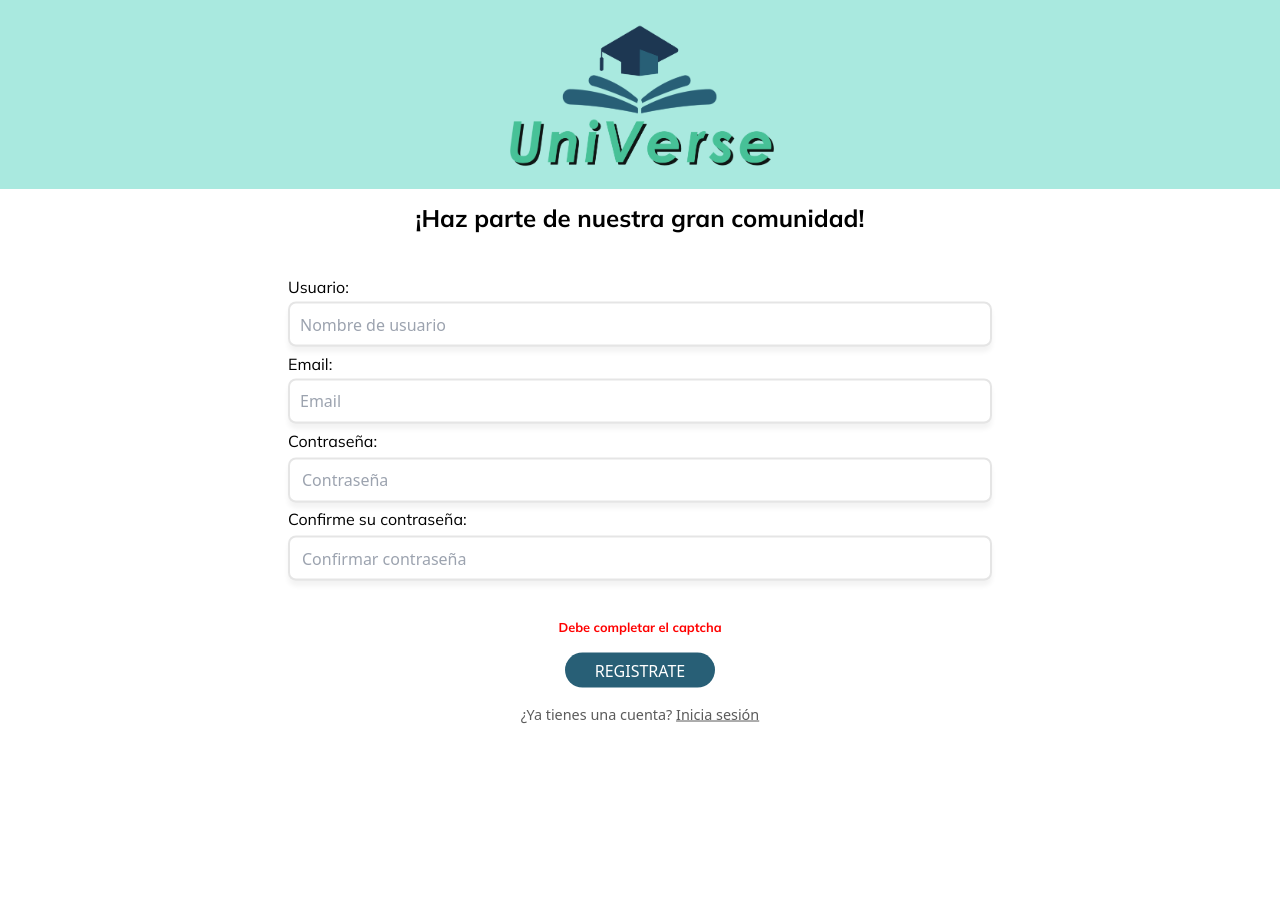
Test case: Prueba de restricciones en los inputs › Muestra error cuando el nombre de usuario está vacío
Type "correo@valido.com" into the field with placeholder "Email" at (640, 401), box [288,378,992,423]
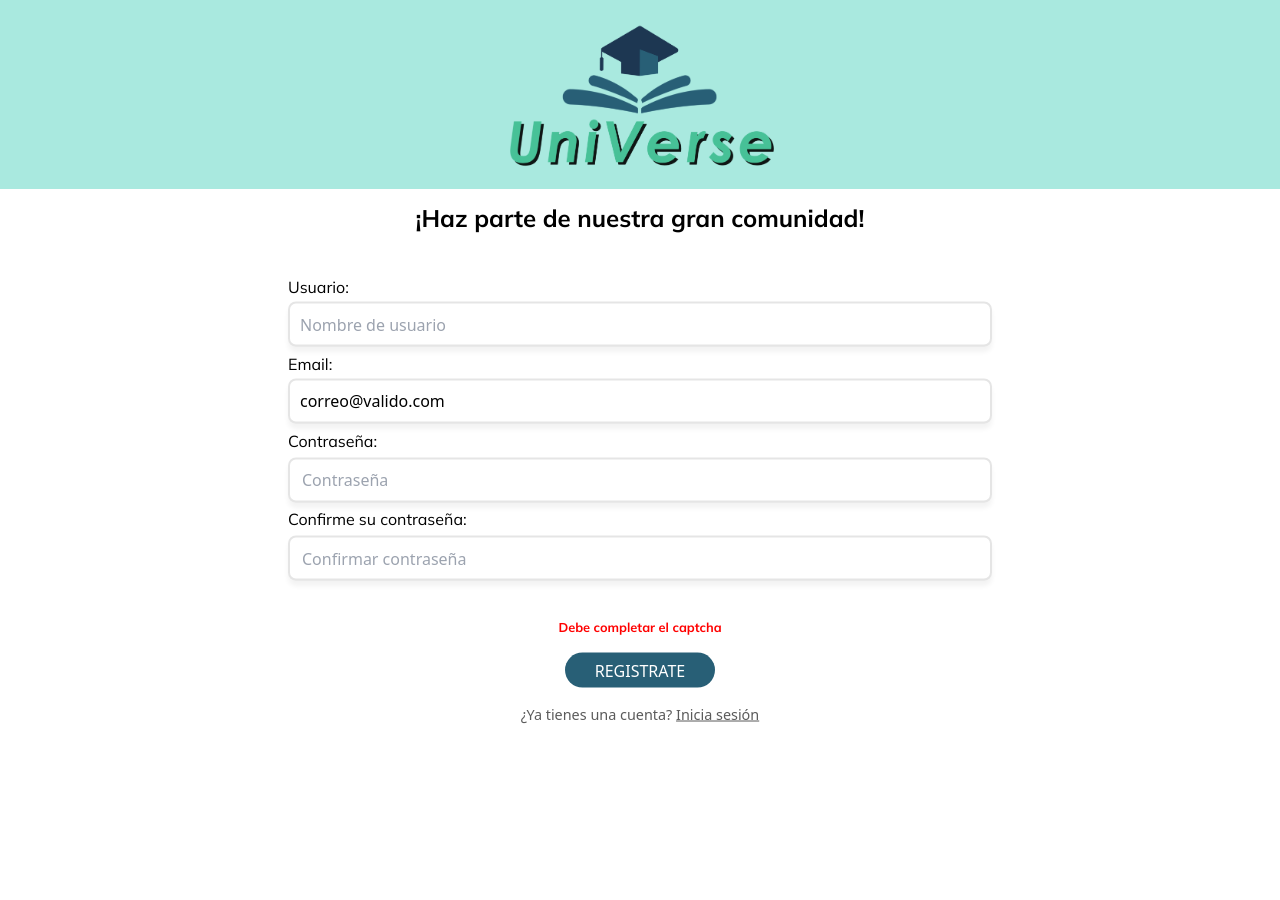
Type "ContraseñaValida123" into the password field with placeholder "Contraseña" at (640, 480), box [288,457,992,502]
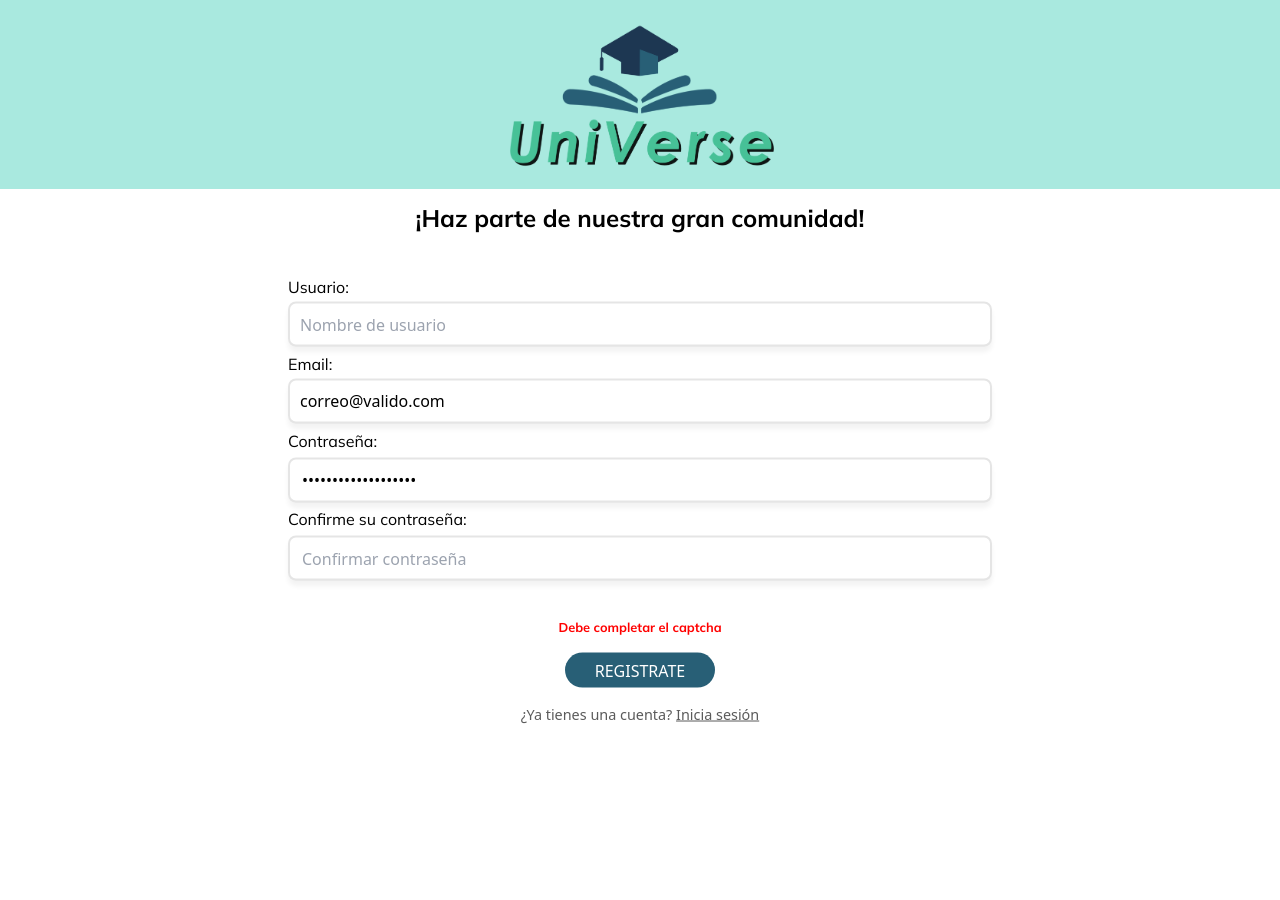
Type "ContraseñaValida123" into the password field with placeholder "Confirmar contraseña" at (640, 558), box [288,536,992,581]
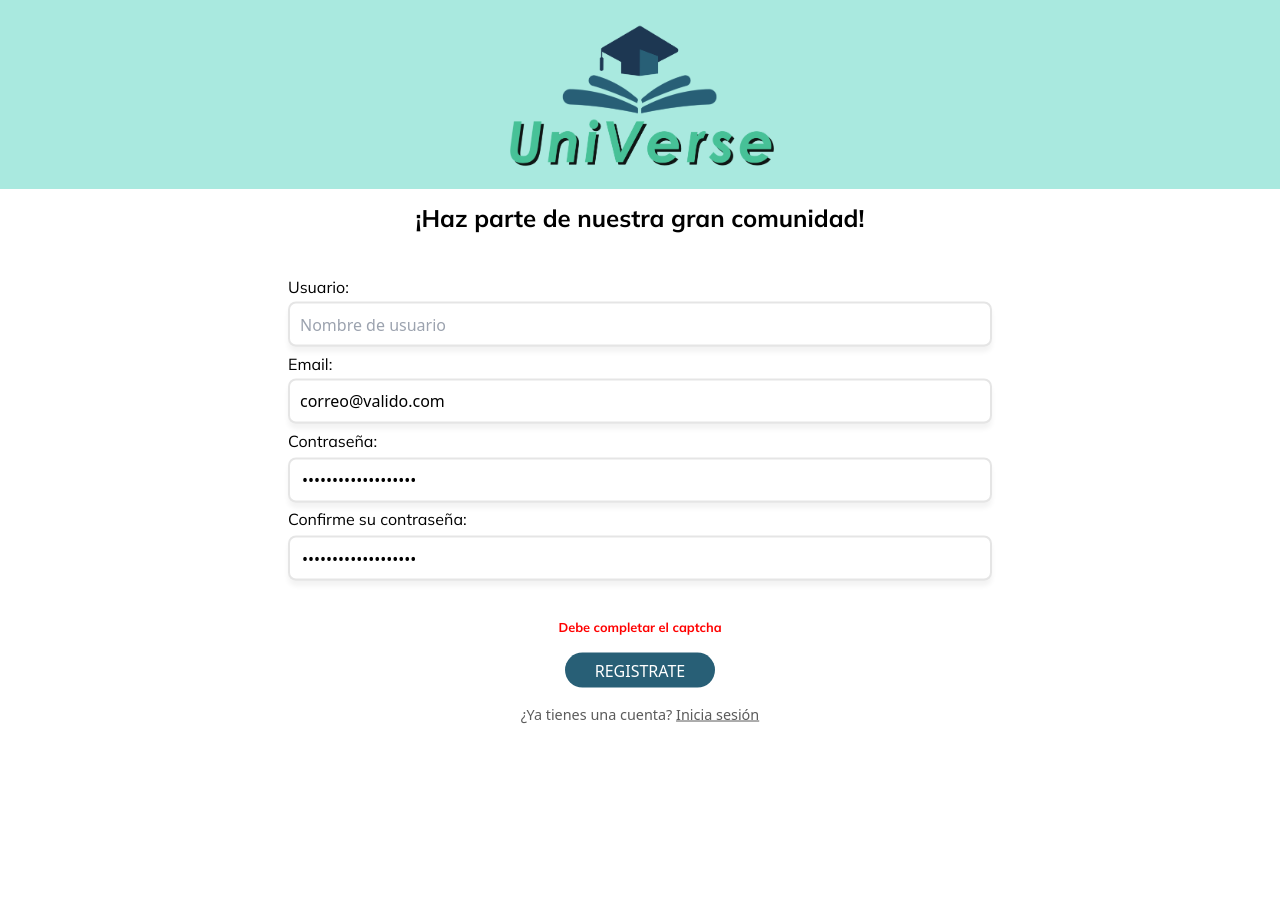
Click the button "REGISTRATE" at (640, 670), box [565,653,715,688]
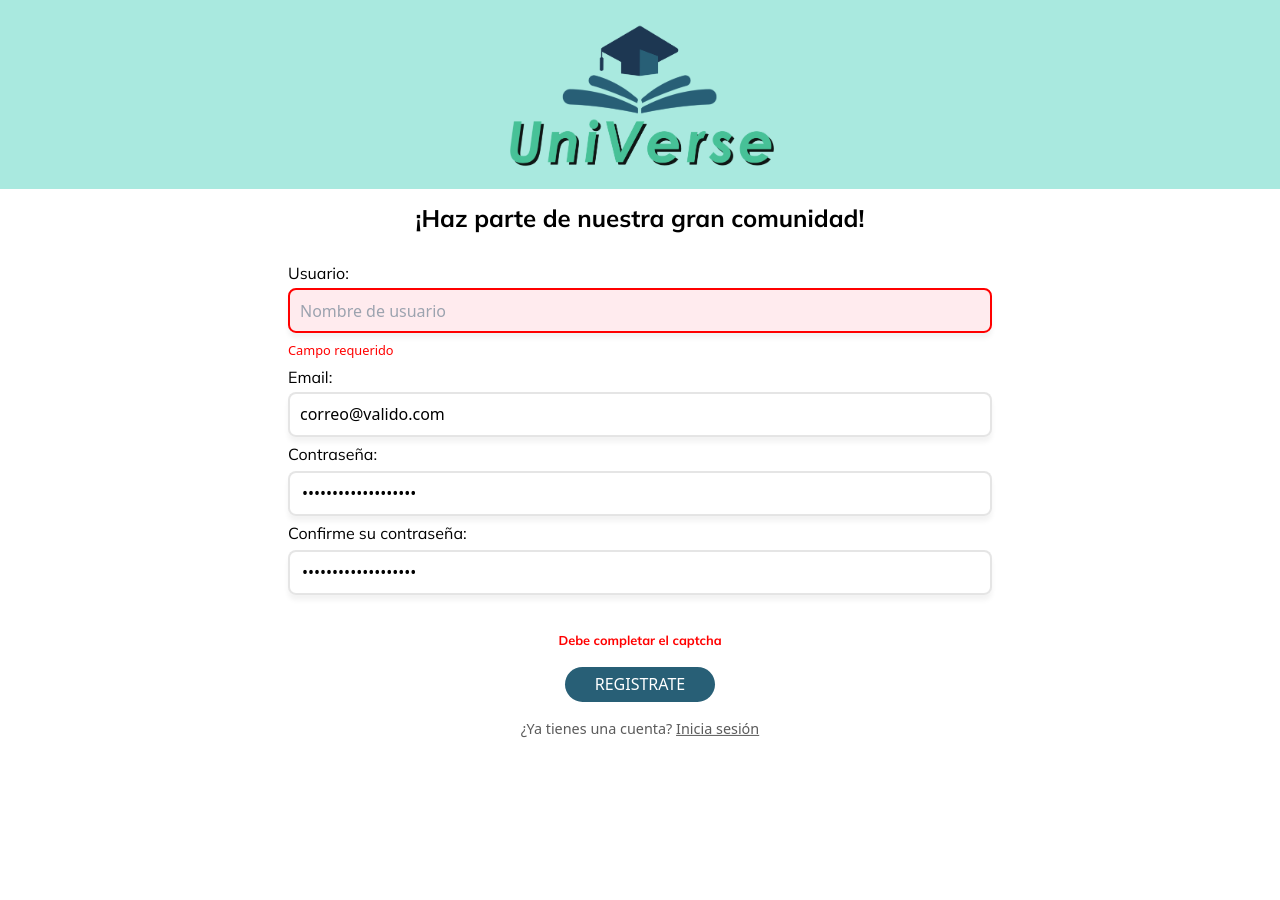
Result: the text "Campo requerido" is shown at [288,341,394,359]
